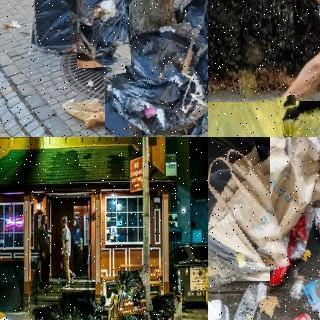Garbage: (100, 25, 206, 137), (208, 137, 280, 286), (208, 98, 312, 137), (76, 0, 130, 67), (26, 0, 80, 53), (116, 270, 151, 315), (177, 0, 208, 44), (60, 291, 96, 320), (146, 293, 184, 320), (115, 299, 150, 320), (29, 303, 70, 320)
